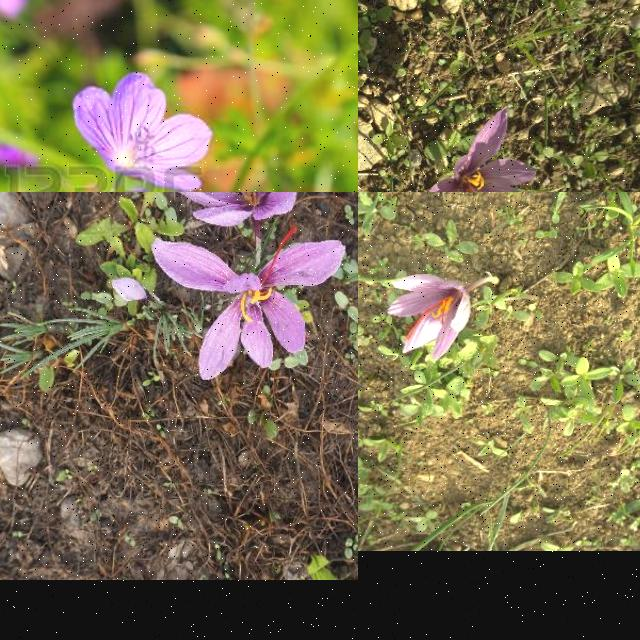flower: (152, 228, 346, 379), (418, 109, 538, 192), (388, 276, 472, 362), (163, 192, 317, 226)
